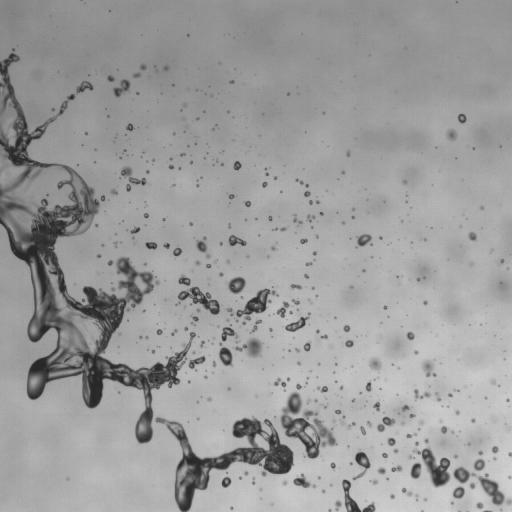droplet: (280, 391, 336, 458), (335, 479, 375, 511), (121, 166, 146, 191), (234, 338, 262, 357), (113, 79, 130, 97), (228, 277, 245, 294), (293, 474, 315, 487), (221, 326, 238, 342), (377, 416, 395, 431), (219, 346, 232, 366), (422, 360, 436, 377), (276, 301, 289, 317), (76, 81, 93, 93), (357, 234, 371, 246), (369, 357, 381, 371), (414, 389, 430, 399), (473, 458, 485, 470), (178, 274, 190, 285), (446, 129, 457, 140), (274, 378, 286, 388), (221, 476, 231, 487), (145, 242, 157, 249), (173, 247, 182, 256), (458, 114, 466, 123), (406, 331, 414, 340), (391, 465, 402, 471), (468, 232, 476, 240), (387, 437, 395, 445), (234, 161, 241, 170), (191, 316, 198, 325), (304, 342, 311, 351), (317, 334, 327, 340), (317, 386, 327, 392), (345, 340, 353, 347), (440, 426, 447, 433), (378, 467, 385, 474), (476, 502, 483, 509), (307, 215, 315, 221), (131, 227, 139, 233), (366, 382, 371, 391), (107, 75, 114, 81), (126, 124, 133, 130), (492, 446, 498, 453), (469, 482, 475, 489), (374, 402, 379, 410), (360, 426, 365, 434), (343, 325, 349, 331), (110, 189, 117, 194), (300, 238, 307, 243), (292, 299, 299, 304), (402, 405, 409, 410), (347, 423, 354, 428), (330, 462, 335, 469), (140, 64, 146, 69), (304, 191, 310, 196), (244, 201, 250, 206), (163, 243, 169, 248), (296, 383, 301, 389), (366, 421, 371, 427), (382, 452, 387, 458), (371, 479, 377, 484), (133, 73, 140, 77), (262, 182, 267, 187), (108, 260, 113, 265), (157, 329, 162, 334), (282, 480, 287, 485), (305, 262, 311, 266), (436, 395, 440, 401), (335, 409, 341, 413), (229, 194, 234, 198), (144, 213, 148, 218), (280, 227, 285, 231), (195, 261, 200, 265), (171, 330, 176, 334), (200, 341, 204, 346), (408, 455, 413, 459), (164, 66, 168, 70), (169, 165, 173, 169), (271, 246, 275, 250), (206, 264, 210, 268), (219, 272, 223, 276), (304, 274, 308, 278), (111, 287, 115, 291), (423, 300, 427, 304), (414, 350, 418, 354), (491, 380, 495, 384), (207, 397, 211, 401), (455, 410, 459, 414), (471, 418, 475, 422), (424, 439, 428, 443), (390, 494, 394, 498), (346, 151, 349, 156), (212, 361, 215, 366), (508, 452, 511, 457), (268, 217, 272, 220), (313, 251, 316, 255), (500, 259, 503, 263), (295, 348, 298, 352), (307, 399, 310, 403), (323, 404, 326, 408), (410, 414, 414, 417), (419, 421, 423, 424), (478, 451, 482, 454), (244, 471, 248, 474), (230, 80, 233, 83), (181, 153, 184, 156), (309, 201, 312, 204), (316, 200, 319, 203), (189, 222, 192, 225), (114, 242, 117, 245), (97, 254, 100, 257), (184, 327, 187, 330), (316, 330, 319, 333), (340, 386, 343, 389), (449, 393, 452, 396), (394, 449, 397, 452), (415, 495, 418, 498), (252, 479, 254, 483), (274, 176, 276, 179), (404, 180, 406, 183), (228, 224, 230, 227), (274, 228, 277, 230), (219, 242, 222, 244), (417, 278, 420, 280), (197, 308, 199, 311), (289, 311, 292, 313), (152, 350, 155, 352), (297, 362, 300, 364), (287, 378, 290, 380), (314, 399, 317, 401), (506, 399, 509, 401), (415, 442, 418, 444), (454, 455, 457, 457), (239, 476, 241, 479), (322, 490, 325, 492), (328, 509, 331, 511), (342, 171, 344, 173), (266, 173, 268, 175), (384, 306, 386, 308), (235, 319, 237, 321), (455, 389, 457, 391), (352, 399, 354, 401), (509, 476, 511, 478), (451, 502, 453, 504)
ligament: (0, 52, 293, 511), (410, 447, 511, 504), (227, 289, 278, 324), (176, 286, 219, 314), (353, 450, 370, 479), (285, 313, 310, 331), (196, 237, 210, 258), (228, 235, 246, 245), (250, 319, 261, 332), (402, 488, 412, 496), (293, 215, 301, 224), (291, 284, 301, 289), (296, 179, 303, 184), (340, 416, 344, 424), (406, 434, 414, 437), (483, 510, 491, 511)
